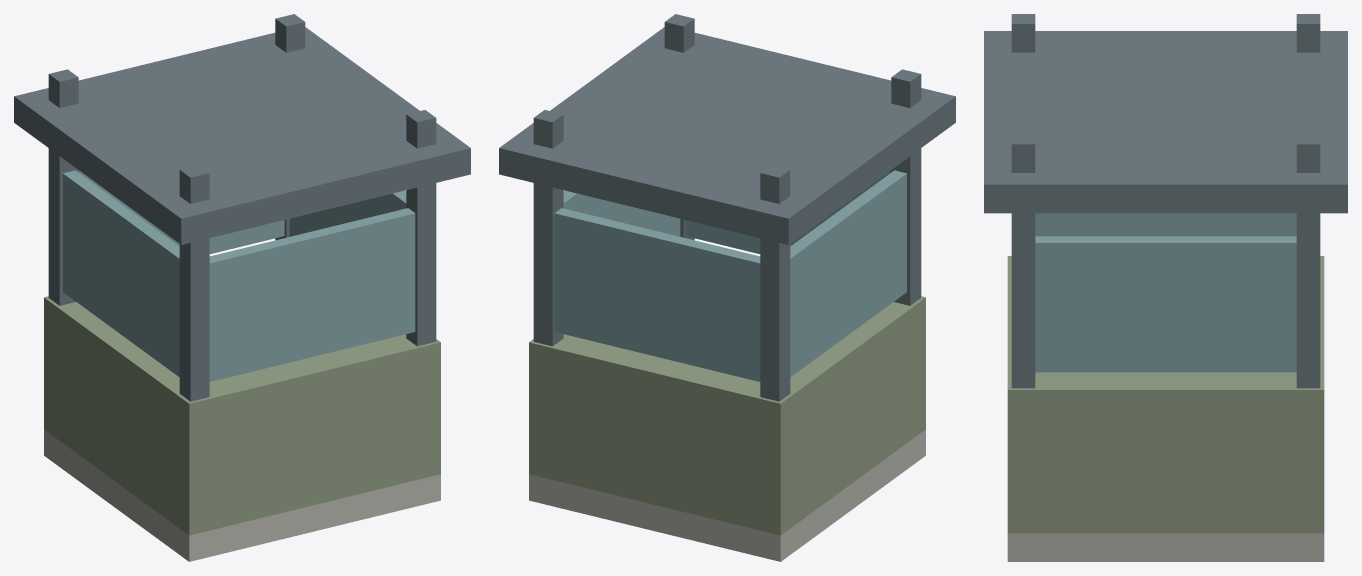
Rendered from three-d-zombie-quarantine-streets-zombie-quarantine-streets-guard-booth-0f9d35d9.glb.
3 renders of one model, left to right at view 1: azimuth 30°, elevation 25°; view 2: azimuth 150°, elevation 25°; view 3: azimuth 270°, elevation 25°, orthographic. The views are drawn at different scales.
Visible parts, largest first — view 1: guard-booth; view 2: guard-booth; view 3: guard-booth.
Boxes of the visible parts, box(x1,y1,x2,y2) form: guard-booth: box(14, 14, 470, 561); guard-booth: box(499, 14, 955, 561); guard-booth: box(984, 14, 1347, 561).
Size of the model in its own units: 2.3 by 2.9 by 2.3.
